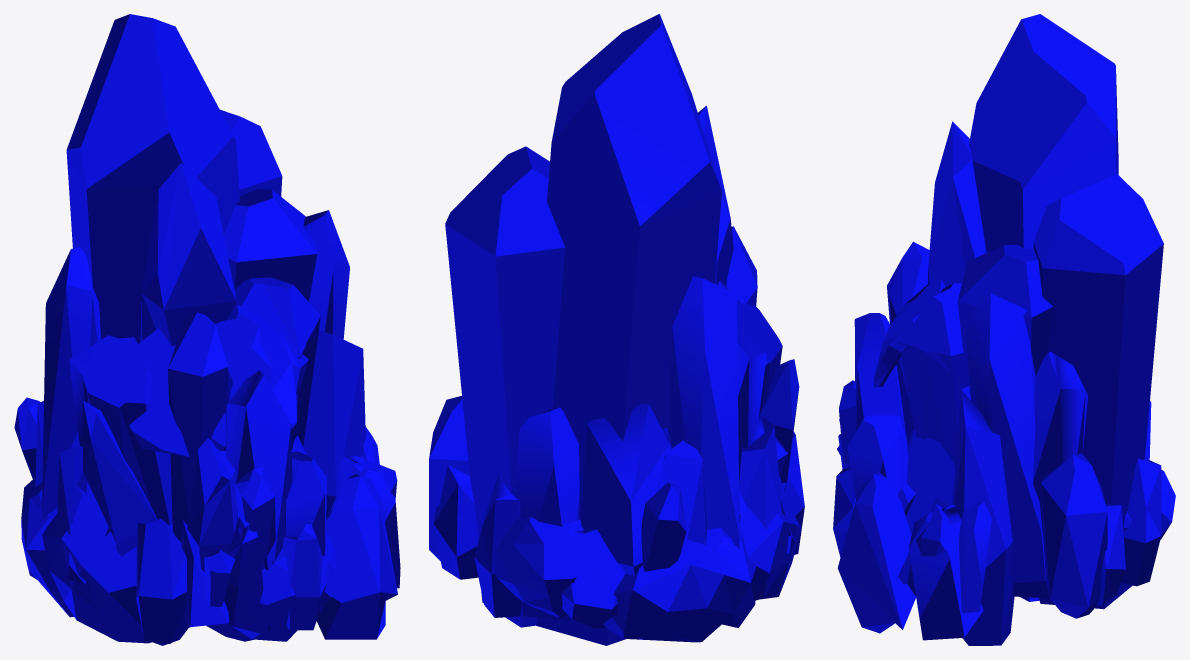
The model's file is crystal.fbx.
3 views of the same model, side by side, from view 1: azimuth 30°, elevation 25°; view 2: azimuth 150°, elevation 25°; view 3: azimuth 270°, elevation 25° (orthographic). The views are drawn at different scales.
Parts seen in each view (by area): view 1: NewGreen_Ob; view 2: NewGreen_Ob; view 3: NewGreen_Ob.
Boxes of the visible parts, box(x1,y1,x2,y2) form: NewGreen_Ob: box(14, 14, 400, 645); NewGreen_Ob: box(429, 14, 804, 645); NewGreen_Ob: box(833, 14, 1175, 645).
Size of the model in its own units: 0.3592 by 0.6484 by 0.3675.
